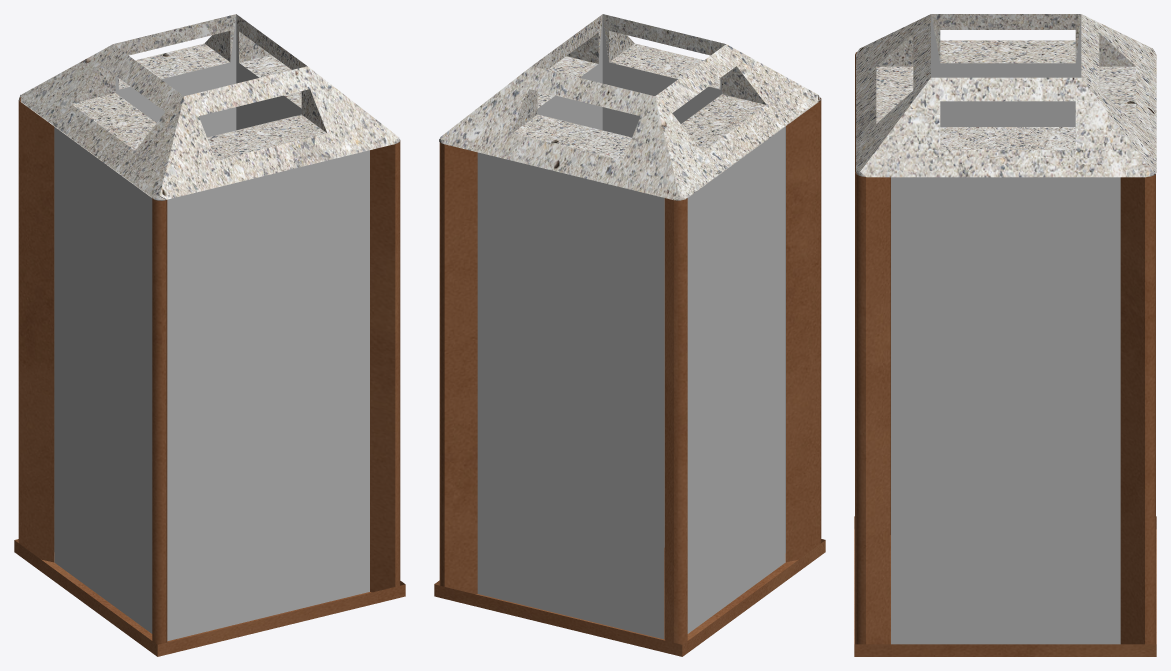
Rendered from bote.obj.
The picture shows the model from 3 angles, left to right: view 1: azimuth 30°, elevation 25°; view 2: azimuth 150°, elevation 25°; view 3: azimuth 270°, elevation 25°; orthographic projection. The views are drawn at different scales.
Visible parts, largest first — view 1: bote:polySurface20; view 2: bote:polySurface20; view 3: bote:polySurface20.
Part boxes in pixels (left/top/right/bottom): bote:polySurface20: left=14, top=14, right=405, bottom=656; bote:polySurface20: left=434, top=14, right=825, bottom=656; bote:polySurface20: left=854, top=14, right=1156, bottom=656.
Size of the model in its own units: 1.42 by 2.83 by 1.42.
